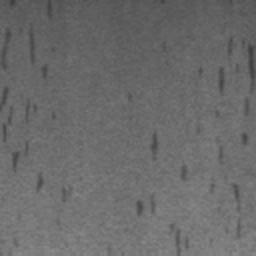Red iron sheet: (0, 0, 67, 205), (197, 36, 256, 159), (209, 178, 243, 239), (168, 223, 189, 256), (136, 193, 155, 216), (150, 129, 160, 161), (179, 164, 188, 180)
